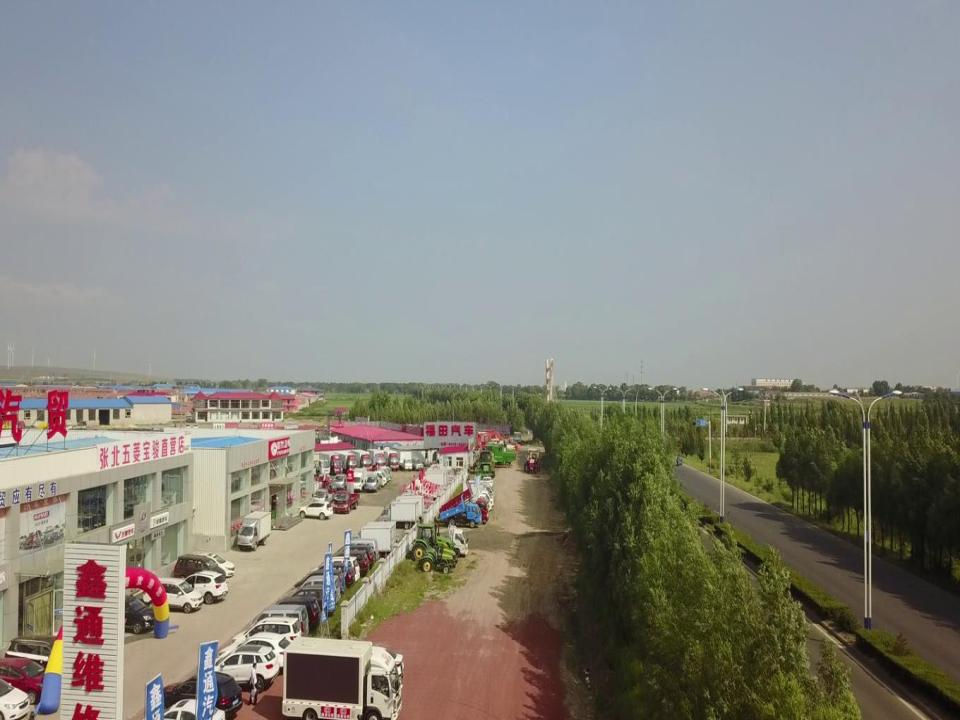car: (206, 643, 280, 691), (340, 642, 404, 678), (148, 694, 227, 720), (180, 570, 229, 606), (186, 549, 235, 578), (295, 501, 332, 520), (371, 467, 393, 479), (483, 476, 493, 487)
truck: (282, 634, 402, 719), (300, 646, 399, 712), (438, 480, 488, 522), (424, 522, 468, 558), (235, 510, 270, 551), (440, 493, 481, 528), (351, 525, 392, 556), (380, 501, 419, 528), (358, 520, 398, 544), (386, 494, 424, 519), (458, 479, 496, 502), (334, 489, 362, 516), (459, 492, 491, 511), (318, 451, 343, 474), (335, 449, 358, 473), (349, 448, 373, 471), (463, 490, 494, 506), (381, 447, 399, 471), (349, 467, 368, 489), (313, 474, 336, 492), (367, 448, 385, 470), (463, 480, 493, 493), (312, 488, 335, 504), (362, 470, 387, 484), (368, 467, 390, 480), (366, 470, 389, 482), (314, 459, 330, 474), (366, 476, 382, 490), (334, 474, 346, 490), (398, 458, 414, 470), (412, 456, 423, 470)
van: (4, 632, 74, 680), (218, 632, 290, 672), (229, 618, 300, 654), (0, 658, 52, 706), (242, 605, 309, 642), (143, 577, 204, 614), (264, 595, 323, 632), (102, 595, 155, 634), (172, 552, 227, 588), (282, 584, 336, 614), (306, 560, 356, 588), (289, 576, 342, 602), (297, 566, 345, 594), (328, 548, 371, 576), (314, 558, 360, 582), (337, 543, 375, 569), (339, 538, 380, 561)
